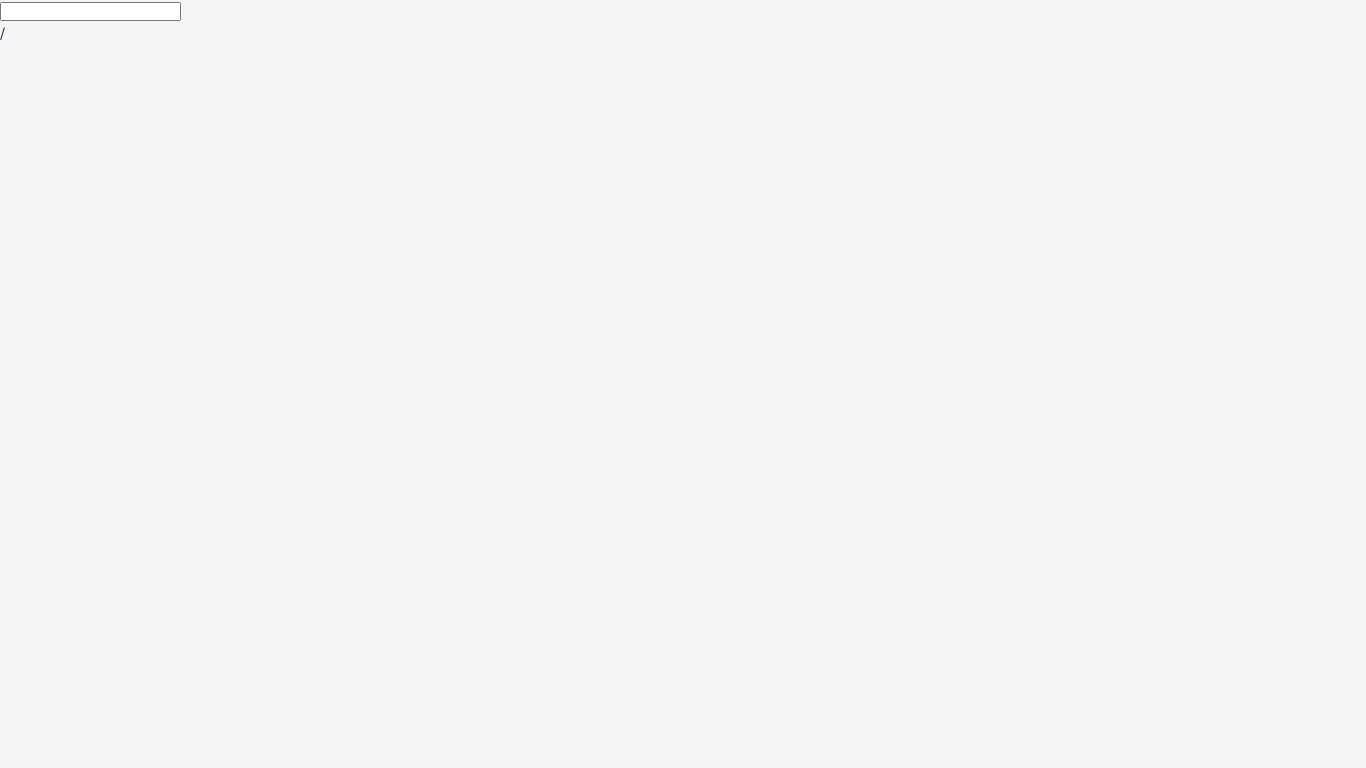
Test: an out-of-order slow response cannot overwrite a newer search
This screenshot has width=1366, height=768.
Type keys "{Control>}k{/Control}"
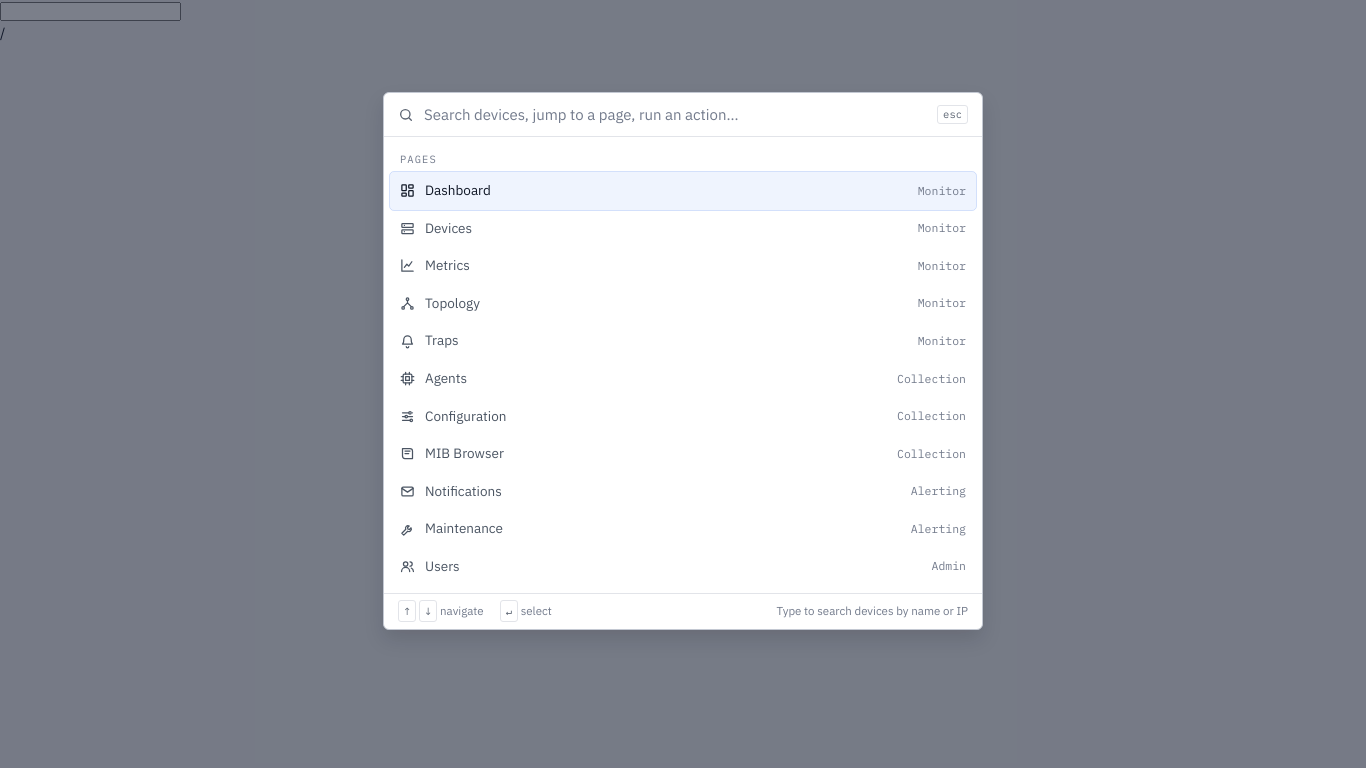
In the dropdown: [676, 115] box x1=424 y1=105 x2=927 y2=124, type "co"
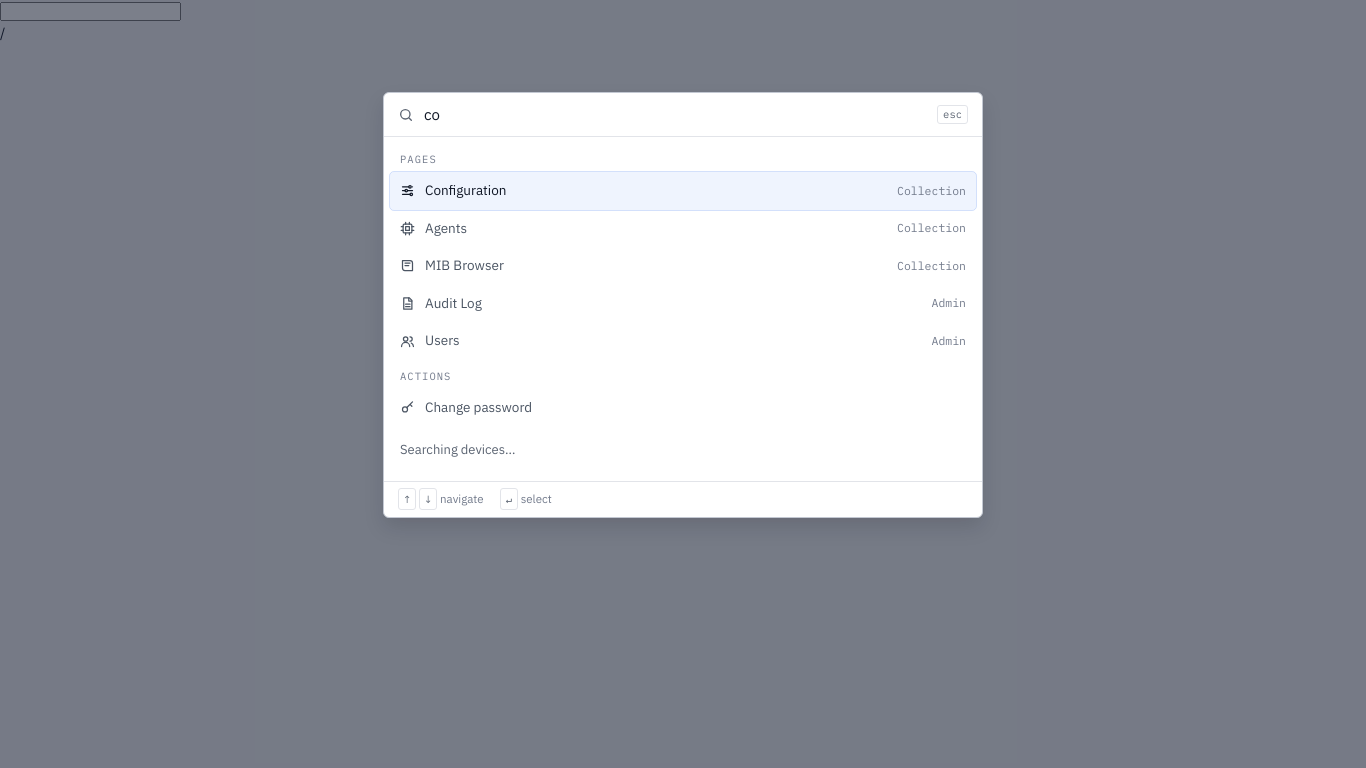
In the dropdown: [676, 115] box x1=424 y1=105 x2=927 y2=124, type "r"
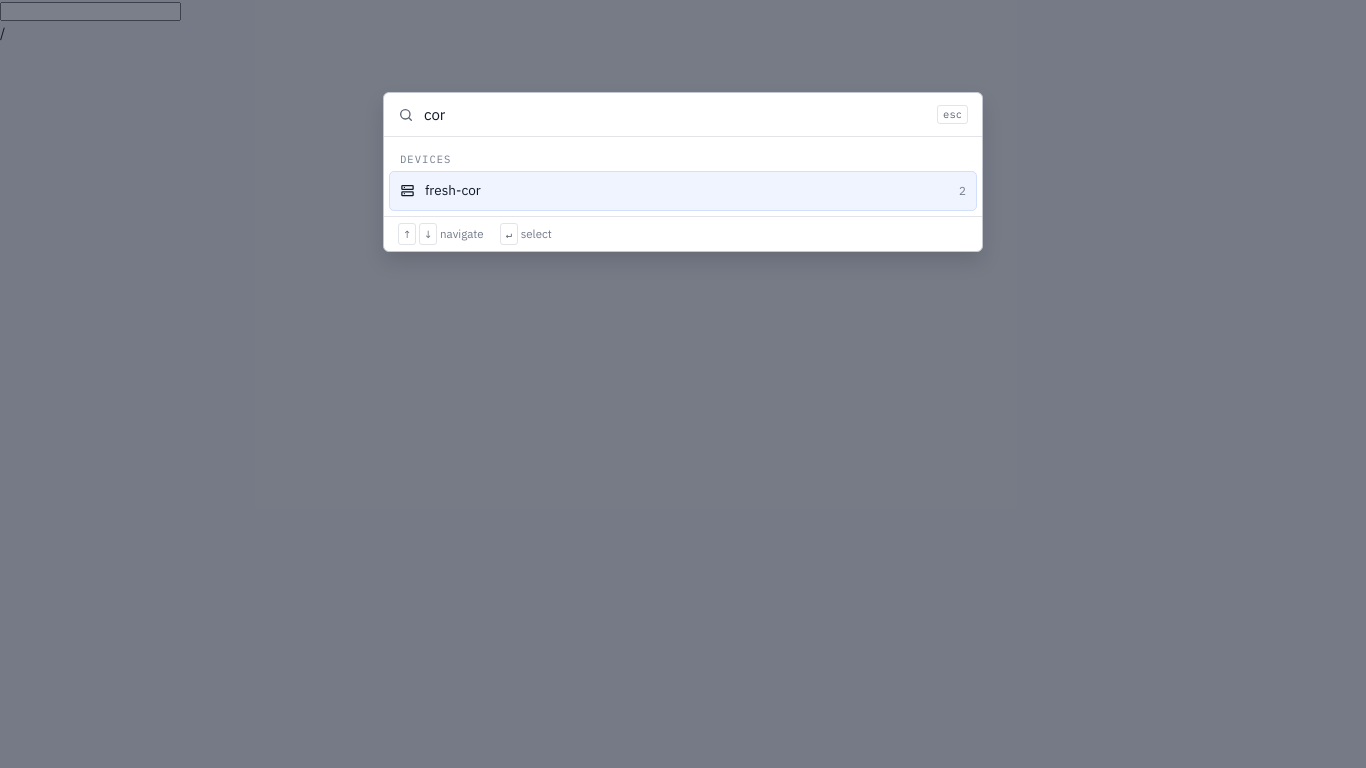
Expected: the text "fresh-cor" is shown, x1=425 y1=181 x2=481 y2=199
